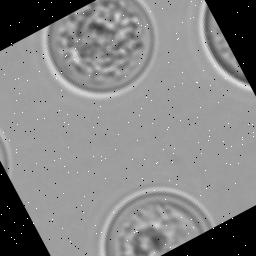picoshell: (41, 0, 158, 100), (100, 188, 215, 256), (197, 0, 251, 92), (0, 130, 11, 179)
